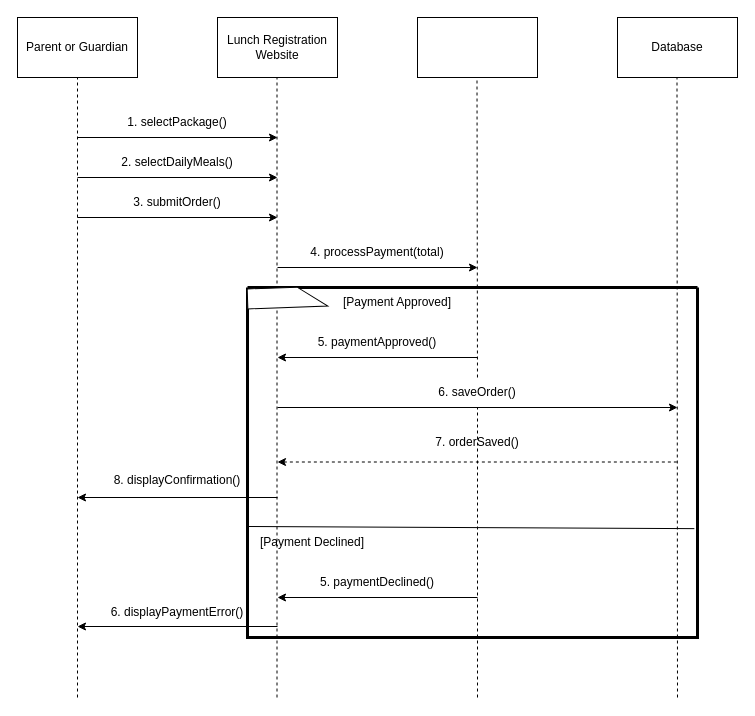
This 755x716 diagram has some shape labels left out. Each missing label, with the centre of its shape:
"alt" goes at point 287,297.
"Payment Processor" goes at point 477,47.
